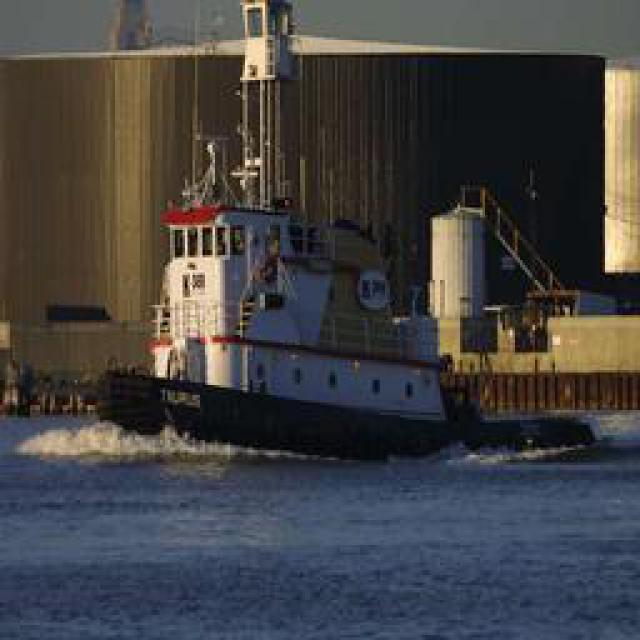Ship: (89, 109, 618, 483)
